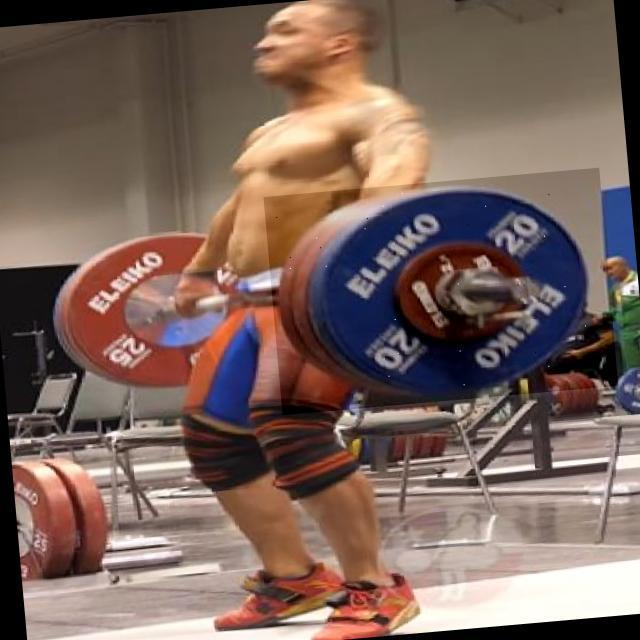barbell: (264, 169, 619, 416)
